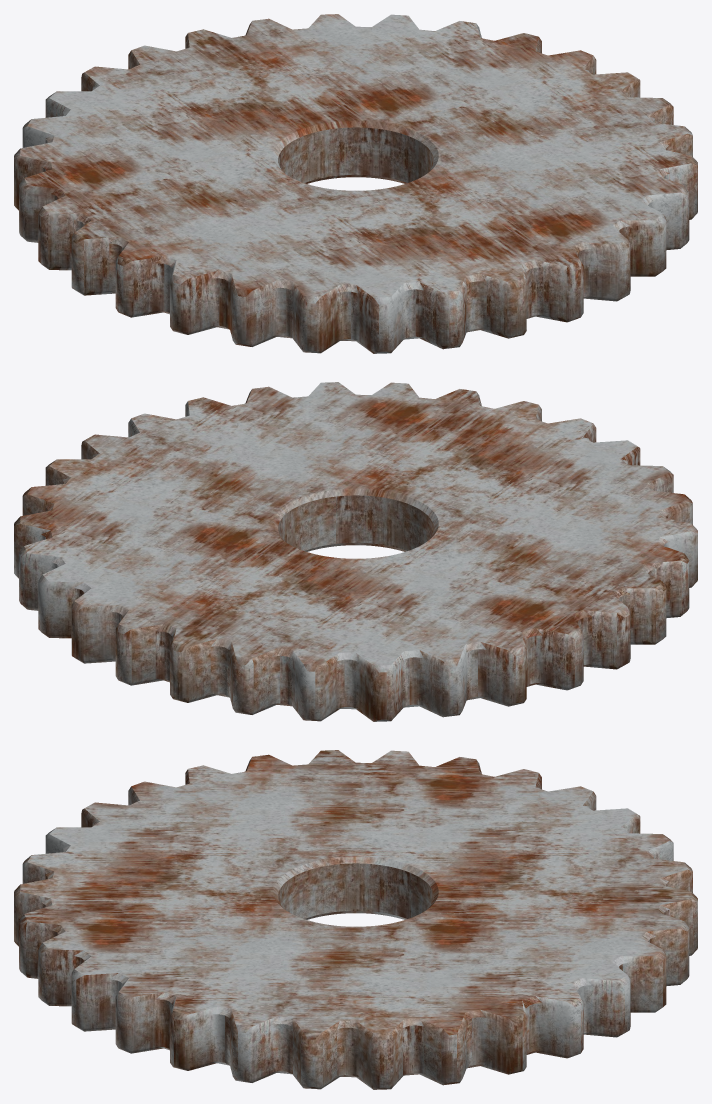
Rendered from gear_2.glb.
The picture shows the model from 3 angles, top to bottom: view 1: azimuth 30°, elevation 25°; view 2: azimuth 150°, elevation 25°; view 3: azimuth 270°, elevation 25°; orthographic projection.
Visible parts, largest first — view 1: gear_2; view 2: gear_2; view 3: gear_2.
Boxes of the visible parts, x1,y1,x2,y2 form: gear_2: (14, 14, 697, 353); gear_2: (14, 382, 697, 721); gear_2: (14, 750, 697, 1089).
Bounding box in the file's own units: 0.2194 × 0.02 × 0.2199.
1 material, 1 textured.
